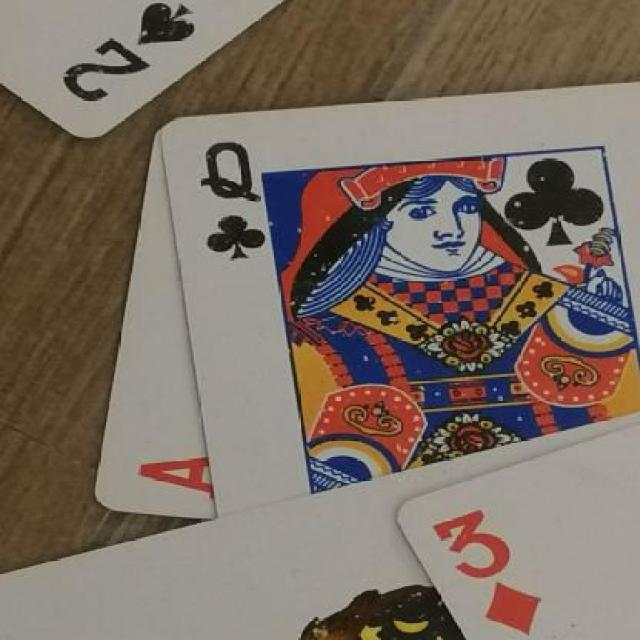2S: (45, 0, 212, 125)
3D: (421, 508, 565, 628)
QC: (192, 122, 274, 280)
